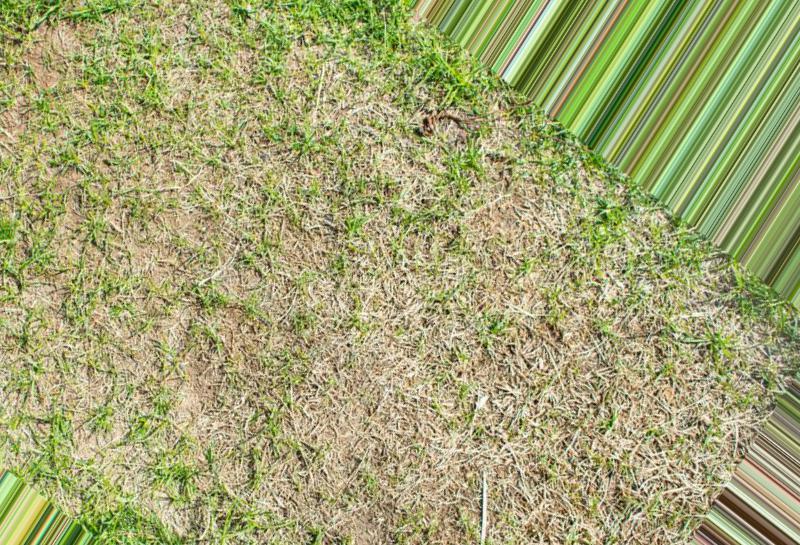patch: (322, 338, 510, 510), (104, 88, 257, 175), (478, 162, 580, 275), (331, 161, 453, 251), (182, 369, 297, 464), (13, 67, 81, 216), (220, 244, 303, 356), (70, 264, 192, 340), (522, 346, 625, 436), (273, 87, 417, 151), (90, 192, 271, 241), (543, 451, 648, 528), (68, 365, 149, 456), (638, 327, 715, 422), (344, 284, 490, 332), (128, 468, 188, 520), (281, 171, 323, 229)
